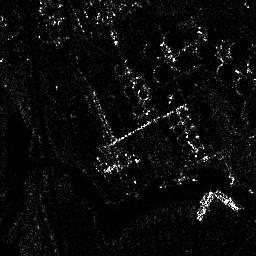ship: (214, 188, 242, 212), (195, 190, 214, 222)
